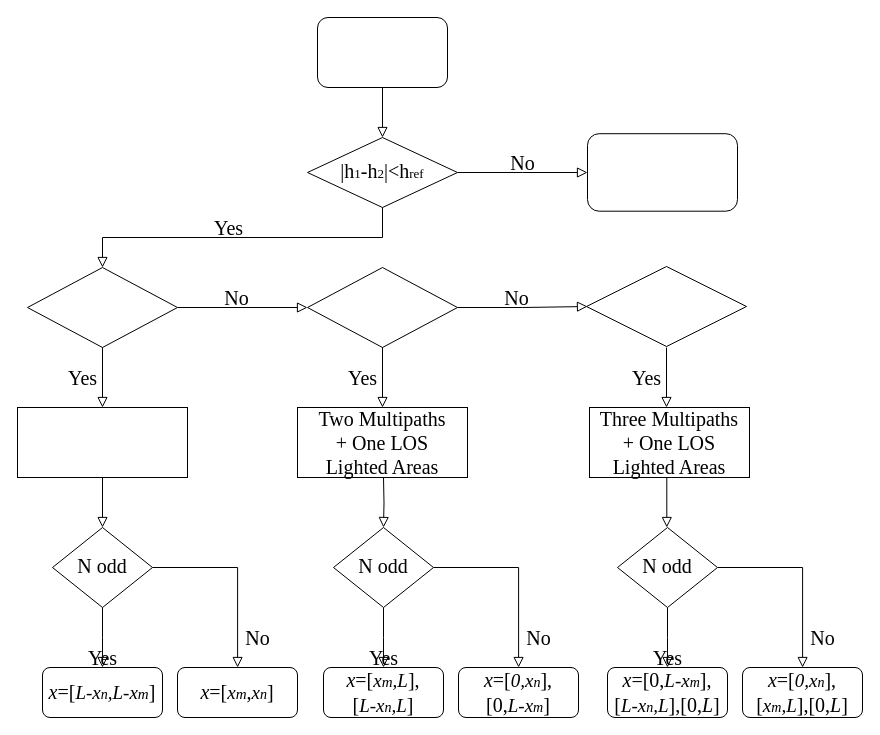
This 880x735 diagram has some shape labels left out. Here are the shapes that lost their labels. From the top down, the centre of each, then its label:
point 382,52: NLOS Lighted Range Test
point 662,172: No Multipath in NLOS
point 102,307: N=M
point 382,307: N=M+1
point 666,306: N=M+2
point 102,442: 1 Multipath Lighted Area
